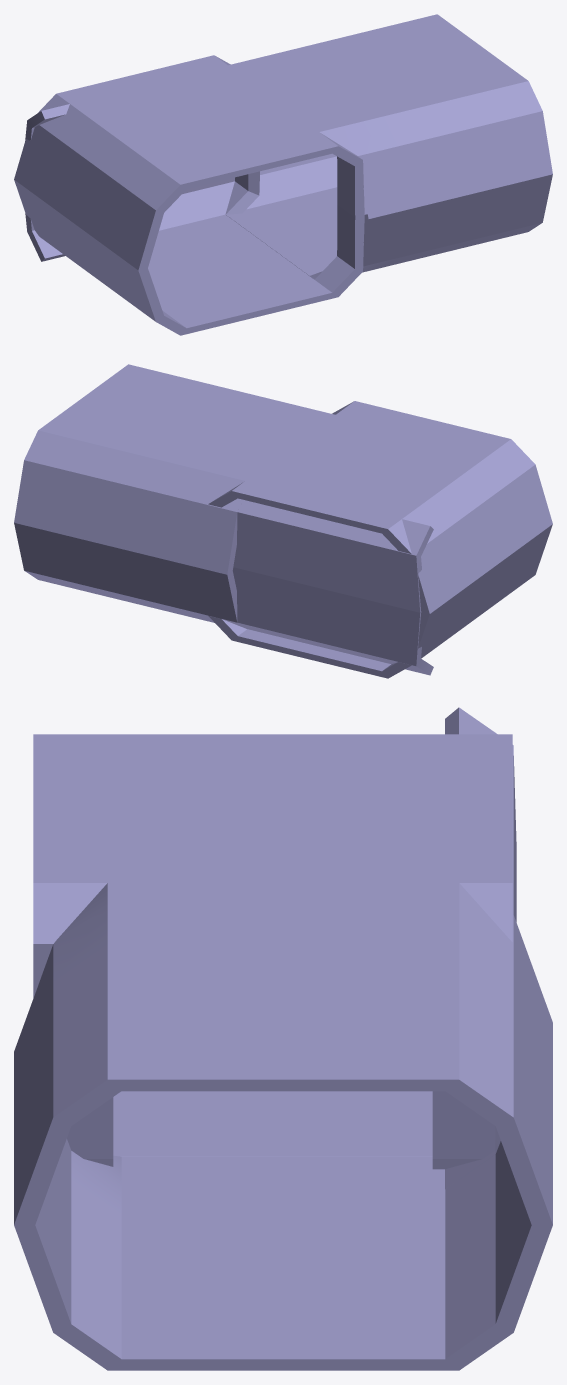
File: corridor_L_main.fbx
3 views of the same model, one above another, from view 1: azimuth 30°, elevation 25°; view 2: azimuth 150°, elevation 25°; view 3: azimuth 270°, elevation 25° (orthographic). The views are drawn at different scales.
Parts seen in each view (by area): view 1: base_corridor_L_main2; view 2: base_corridor_L_main2; view 3: base_corridor_L_main2.
Boxes of the visible parts, <box> form: base_corridor_L_main2: <box>14,14,552,335</box>; base_corridor_L_main2: <box>14,364,552,678</box>; base_corridor_L_main2: <box>14,707,552,1370</box>.
Size of the model in its own units: 84.86 by 29.9 by 50.2.
